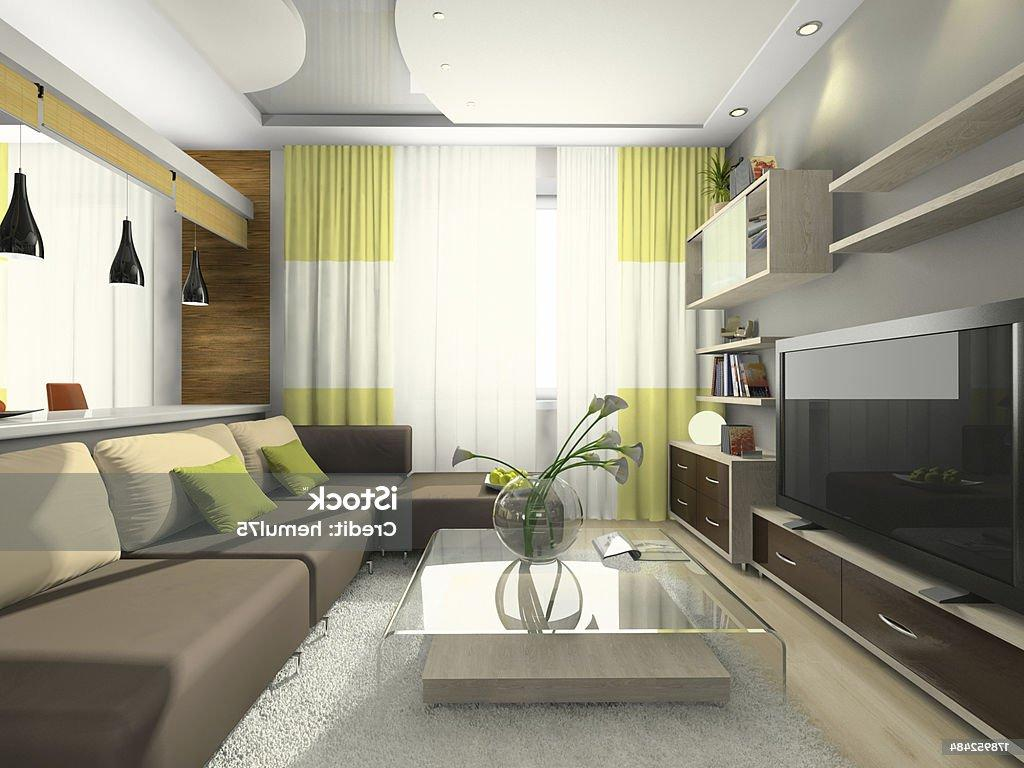TV: (771, 298, 1024, 614)
console: (746, 501, 1024, 764)
light: (0, 124, 48, 262), (103, 173, 147, 292), (175, 224, 212, 310), (791, 13, 830, 46), (724, 102, 753, 123), (461, 99, 482, 110), (437, 60, 456, 70), (431, 11, 448, 19)
sofa: (0, 405, 412, 768)
table: (374, 521, 788, 711), (658, 430, 773, 569), (388, 468, 554, 562)
